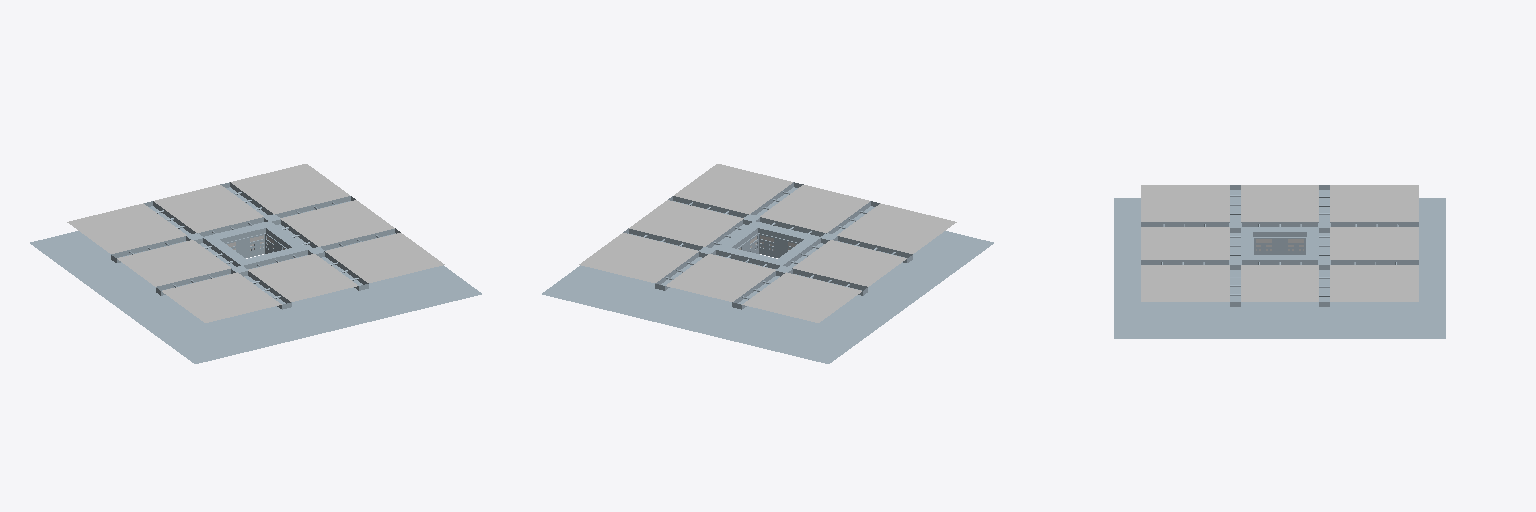
Rendered from WallFour_mid.obj.
The picture shows the model from 3 angles: view 1: azimuth 30°, elevation 25°; view 2: azimuth 150°, elevation 25°; view 3: azimuth 270°, elevation 25°; orthographic projection.
Visible parts, largest first — view 1: Wall_mid_wall_mid, PanelCorner_Low_Cube.007, PanelBottom_Low_Cube.006; view 2: Wall_mid_wall_mid, PanelCorner_Low_Cube.007, PanelBottom_Low_Cube.006; view 3: Wall_mid_wall_mid, PanelCorner_Low_Cube.007, PanelBottom_Low_Cube.006.
Part boxes in pixels (x1,y1,x2,y2): Wall_mid_wall_mid: (30, 182, 481, 363); PanelCorner_Low_Cube.007: (67, 164, 444, 322); PanelBottom_Low_Cube.006: (117, 185, 394, 301); Wall_mid_wall_mid: (542, 182, 993, 363); PanelCorner_Low_Cube.007: (579, 164, 956, 322); PanelBottom_Low_Cube.006: (629, 185, 906, 301); Wall_mid_wall_mid: (1114, 185, 1445, 338); PanelCorner_Low_Cube.007: (1141, 185, 1418, 301); PanelBottom_Low_Cube.006: (1141, 185, 1418, 301).
Size of the model in its own units: 2.4 by 0.2 by 2.4.